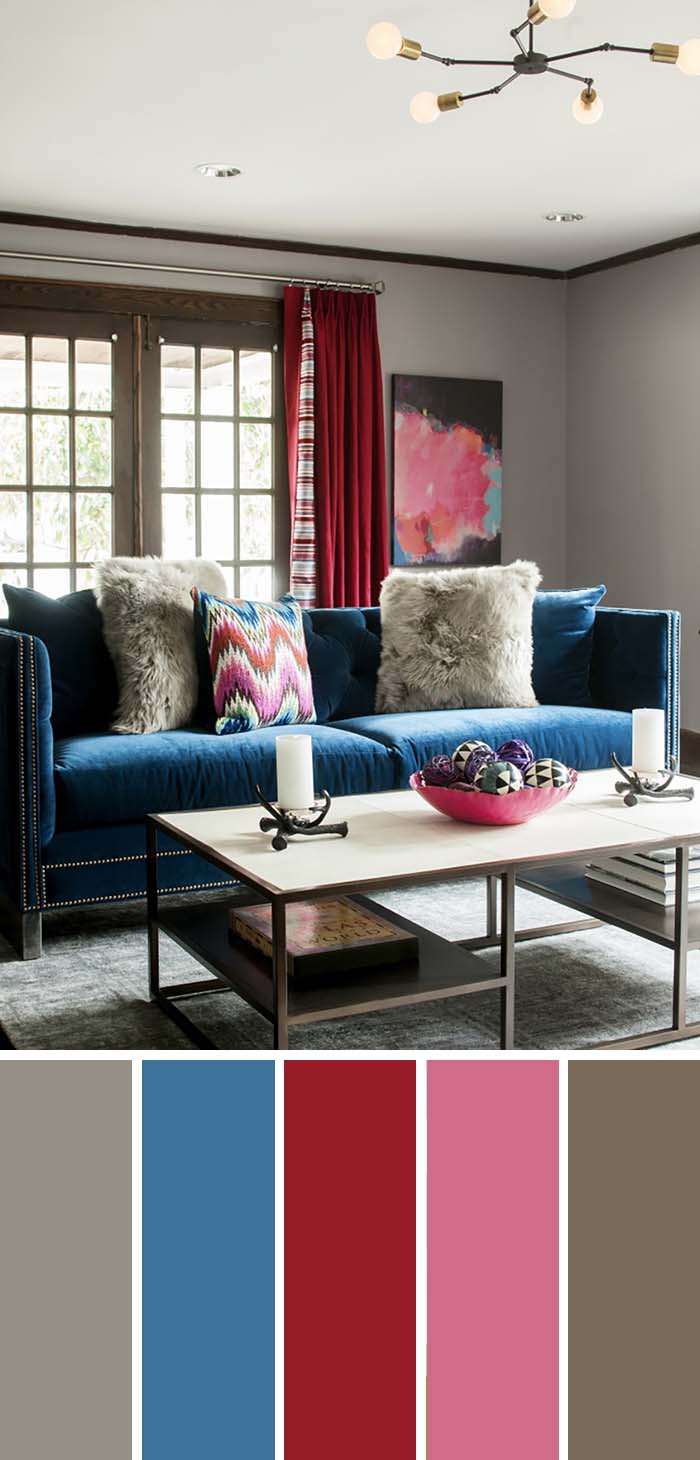pink: (412, 775, 582, 825)
putih: (272, 733, 321, 811), (629, 703, 672, 772)
